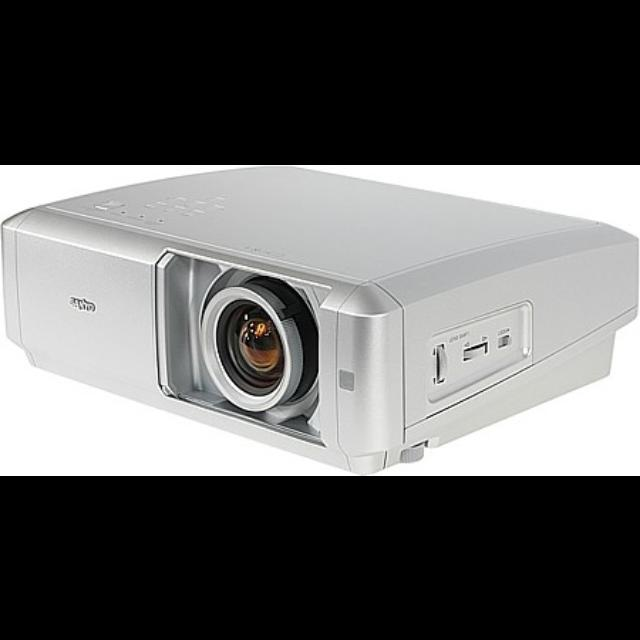Projector: (4, 164, 640, 466)
